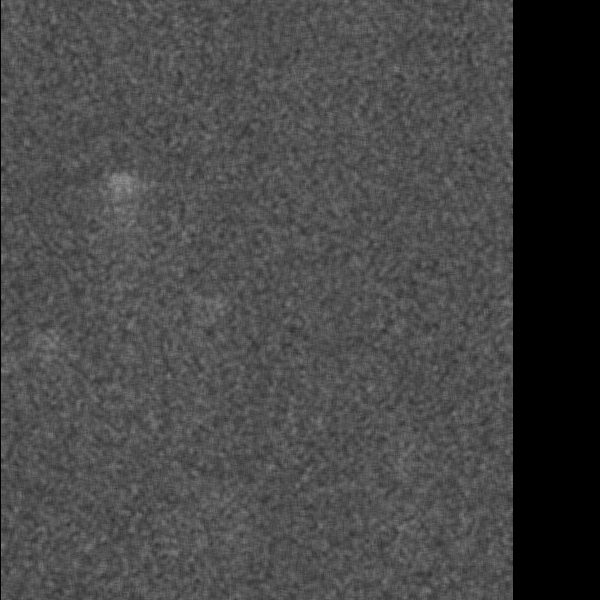spark: (387, 1, 455, 72), (206, 75, 253, 126), (234, 335, 256, 366)
